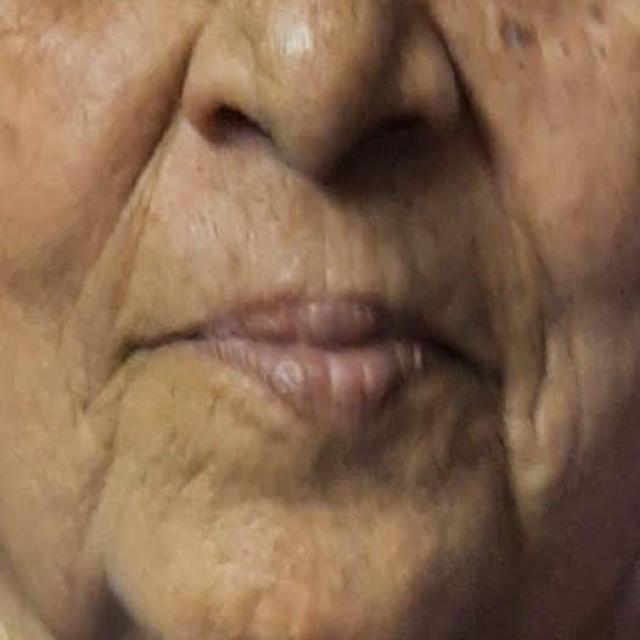normal_tongue: (168, 278, 509, 488)
